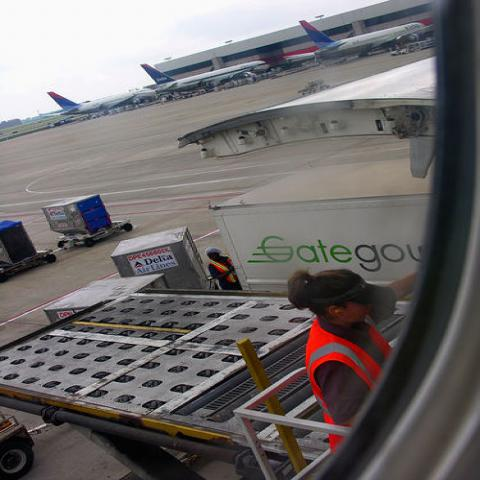truck: (208, 158, 439, 293)
